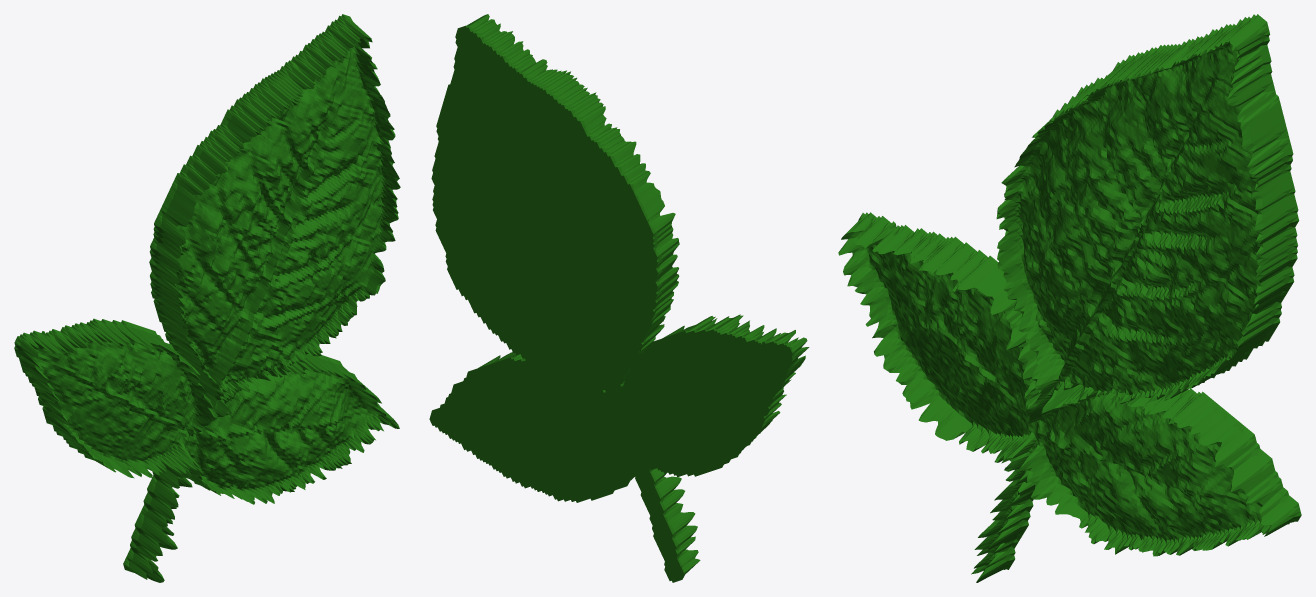
File: Bael.glb
The picture shows the model from 3 angles, left to right: view 1: azimuth 30°, elevation 25°; view 2: azimuth 150°, elevation 25°; view 3: azimuth 330°, elevation 25°; orthographic projection. The views are drawn at different scales.
Visible parts, largest first — view 1: Bael; view 2: Bael; view 3: Bael.
Part boxes in pixels (left/top/right/bottom): Bael: left=14, top=14, right=400, bottom=582; Bael: left=429, top=14, right=809, bottom=582; Bael: left=838, top=14, right=1301, bottom=582.
Bounding box in the file's own units: 11.56 × 15.4 × 1.84.
